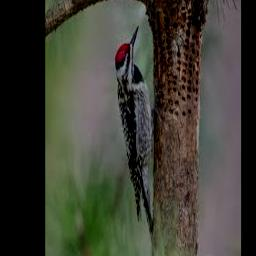Woodpecker: (116, 24, 155, 237)
